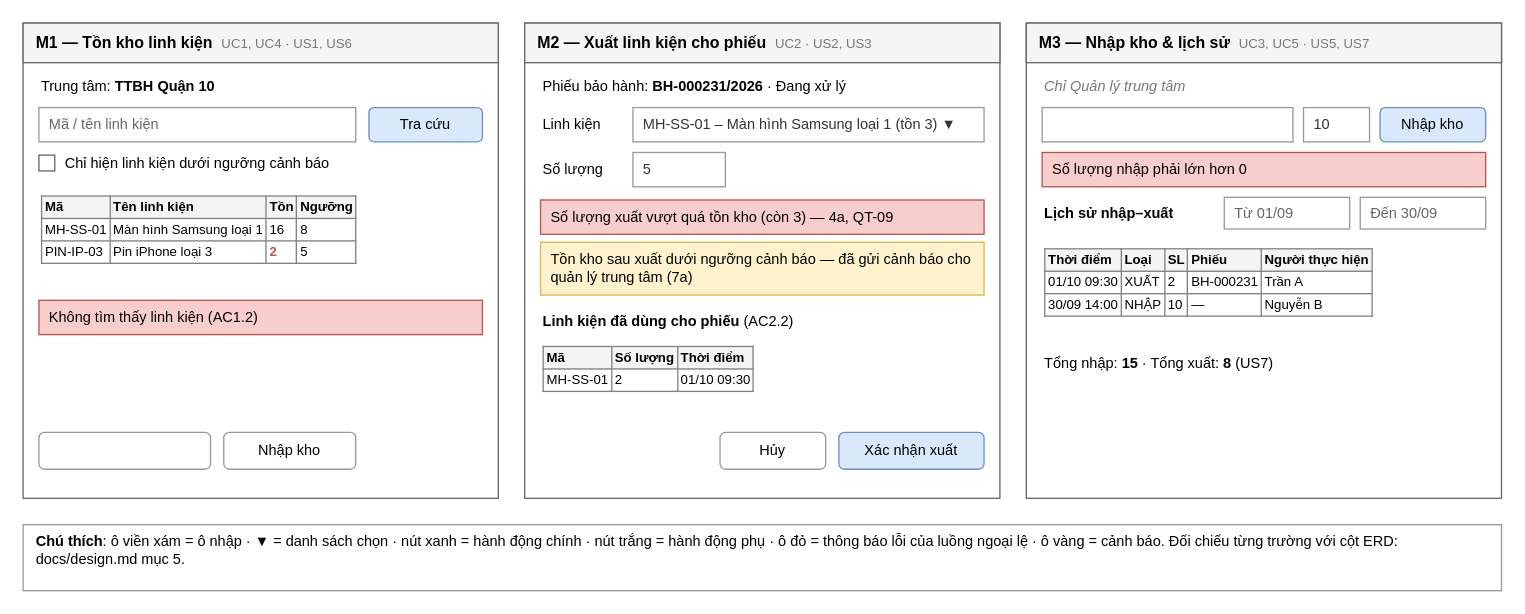
The diagram is 1525 pixels wide and 614 high, and some of its shapes have lost their labels. Each missing label, with the centre of its shape:
MH-SS-01 ▼: the point at 1167,124
Xuất cho phiếu: the point at 124,450
